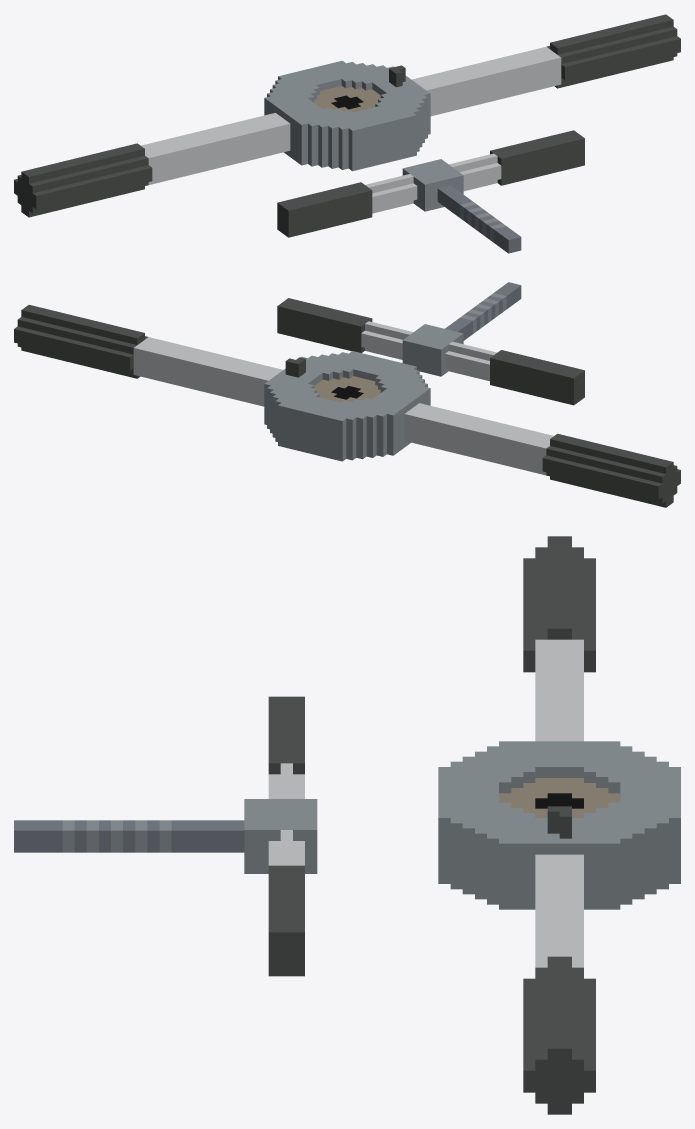
The model's file is thread_cutting_set.glb.
3 renders of one model, top to bottom at view 1: azimuth 30°, elevation 25°; view 2: azimuth 150°, elevation 25°; view 3: azimuth 270°, elevation 25°, orthographic. The views are drawn at different scales.
Visible parts, largest first — view 1: thread_cutting_set:compound; view 2: thread_cutting_set:compound; view 3: thread_cutting_set:compound.
Boxes of the visible parts, left/top/right/bottom form: thread_cutting_set:compound: left=14, top=14, right=680, bottom=253; thread_cutting_set:compound: left=14, top=282, right=680, bottom=507; thread_cutting_set:compound: left=14, top=536, right=680, bottom=1114.
Size of the model in its own units: 0.4 by 0.032 by 0.22.
